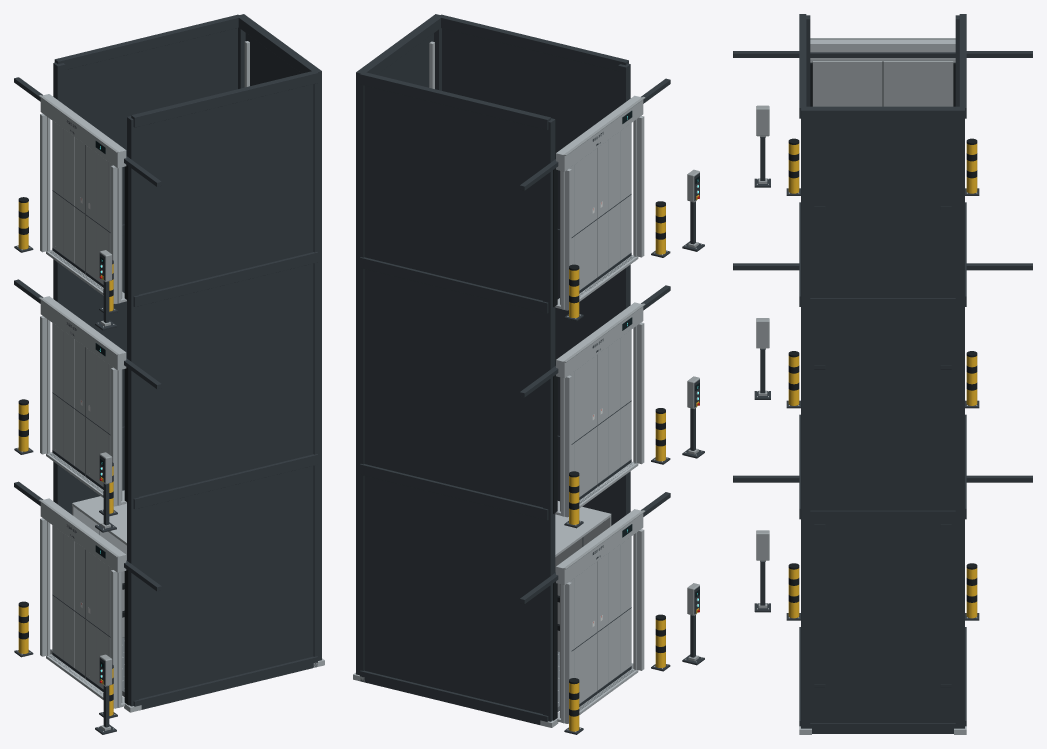
The model's file is CargoElevator_Assembly.fbx.
3 renders of one model, left to right at view 1: azimuth 30°, elevation 25°; view 2: azimuth 150°, elevation 25°; view 3: azimuth 270°, elevation 25°, orthographic. The views are drawn at different scales.
Parts seen in each view (by area): view 1: SM_ELV_ShaftEnclosure, SM_ELV_ShaftFrame, SM_ELV_Landing_L2, SM_ELV_Landing_L1, SM_ELV_Landing_L3, SM_ELV_Gate_0_1, SM_ELV_Gate_1_1, SM_ELV_Gate_2_1, SM_ELV_Gate_2_-1, SM_ELV_Gate_1_-1, SM_ELV_Gate_0_-1, SM_ELV_CabinShell (+6 smaller); view 2: SM_ELV_ShaftEnclosure, SM_ELV_ShaftFrame, SM_ELV_Landing_L2, SM_ELV_Landing_L3, SM_ELV_Landing_L1, SM_ELV_Gate_0_-1, SM_ELV_Gate_2_-1, SM_ELV_Gate_1_-1, SM_ELV_Gate_1_1, SM_ELV_Gate_2_1, SM_ELV_Gate_0_1, SM_ELV_CabinShell (+6 smaller); view 3: SM_ELV_ShaftEnclosure, SM_ELV_ShaftFrame, SM_ELV_Landing_L3, SM_ELV_Gate_2_-1, SM_ELV_Gate_2_1, SM_ELV_Bollards_L2, SM_ELV_Bollards_L1, SM_ELV_Bollards_L3, SM_ELV_Landing_L1, SM_ELV_Landing_L2, SM_ELV_CallStand_L3, SM_ELV_CallStand_L1 (+1 smaller).
Boxes of the visible parts, x1=… form: SM_ELV_ShaftEnclosure: x1=65, y1=28, x2=320, y2=698; SM_ELV_ShaftFrame: x1=50, y1=14, x2=324, y2=712; SM_ELV_Landing_L2: x1=14, y1=279, x2=161, y2=506; SM_ELV_Landing_L1: x1=14, y1=481, x2=161, y2=708; SM_ELV_Landing_L3: x1=14, y1=77, x2=161, y2=303; SM_ELV_Gate_0_1: x1=52, y1=525, x2=85, y2=678; SM_ELV_Gate_1_1: x1=52, y1=323, x2=85, y2=476; SM_ELV_Gate_2_1: x1=52, y1=121, x2=85, y2=274; SM_ELV_Gate_2_-1: x1=85, y1=145, x2=122, y2=298; SM_ELV_Gate_1_-1: x1=85, y1=347, x2=122, y2=500; SM_ELV_Gate_0_-1: x1=85, y1=550, x2=122, y2=702; SM_ELV_CabinShell: x1=72, y1=490, x2=126, y2=637; SM_ELV_ShaftEnclosure: x1=357, y1=28, x2=618, y2=713; SM_ELV_ShaftFrame: x1=353, y1=14, x2=633, y2=727; SM_ELV_Landing_L2: x1=520, y1=285, x2=670, y2=517; SM_ELV_Landing_L3: x1=520, y1=78, x2=670, y2=310; SM_ELV_Landing_L1: x1=520, y1=492, x2=670, y2=723; SM_ELV_Gate_0_-1: x1=597, y1=536, x2=631, y2=693; SM_ELV_Gate_2_-1: x1=597, y1=123, x2=631, y2=279; SM_ELV_Gate_1_-1: x1=597, y1=330, x2=631, y2=486; SM_ELV_Gate_1_1: x1=560, y1=355, x2=597, y2=511; SM_ELV_Gate_2_1: x1=560, y1=148, x2=597, y2=304; SM_ELV_Gate_0_1: x1=560, y1=561, x2=597, y2=717; SM_ELV_CabinShell: x1=555, y1=501, x2=611, y2=651; SM_ELV_ShaftEnclosure: x1=810, y1=121, x2=955, y2=722; SM_ELV_ShaftFrame: x1=799, y1=14, x2=966, y2=734; SM_ELV_Landing_L3: x1=733, y1=38, x2=1032, y2=106; SM_ELV_Gate_2_-1: x1=812, y1=61, x2=882, y2=106; SM_ELV_Gate_2_1: x1=883, y1=61, x2=953, y2=106; SM_ELV_Bollards_L2: x1=786, y1=351, x2=979, y2=408; SM_ELV_Bollards_L1: x1=786, y1=563, x2=979, y2=620; SM_ELV_Bollards_L3: x1=786, y1=138, x2=979, y2=195; SM_ELV_Landing_L1: x1=733, y1=475, x2=1032, y2=482; SM_ELV_Landing_L2: x1=733, y1=263, x2=1032, y2=270; SM_ELV_CallStand_L3: x1=754, y1=105, x2=770, y2=187; SM_ELV_CallStand_L1: x1=754, y1=530, x2=770, y2=612.
Bounding box in the file's own units: 504 × 512 × 1180.
